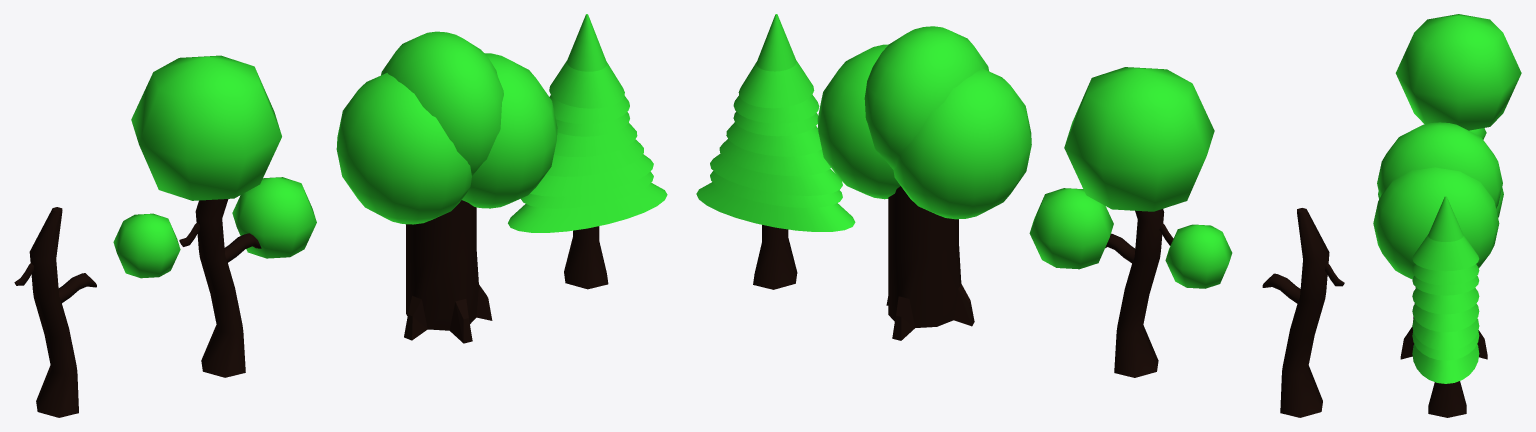
File: Trees.FBX
3 renders of one model, left to right at view 1: azimuth 30°, elevation 25°; view 2: azimuth 150°, elevation 25°; view 3: azimuth 270°, elevation 25°, orthographic. The views are drawn at different scales.
Parts seen in each view (by area): view 1: Sphere001, Sphere006, Sphere004, Cylinder007, Sphere005, Cylinder004, Cylinder001, Sphere002, Cone001, Sphere003, Cone007, Cone003 (+7 smaller); view 2: Sphere001, Sphere006, Sphere004, Cylinder007, Sphere005, Cylinder004, Sphere002, Cylinder001, Cone001, Sphere003, Cone003, Cone007 (+7 smaller); view 3: Sphere001, Sphere005, Sphere004, Cone007, Cone001, Cone005, Cone003, Cone004, Cylinder008, Cone008, Cone009, Cone006 (+2 smaller).
Part boxes in pixels (box(x1,y1,x2,y2)): Sphere001: box(131, 55, 281, 200); Sphere006: box(336, 73, 471, 224); Sphere004: box(381, 31, 503, 175); Cylinder007: box(404, 200, 492, 343); Sphere005: box(462, 53, 557, 208); Cylinder004: box(29, 207, 78, 417); Cylinder001: box(195, 199, 245, 377); Sphere002: box(232, 177, 316, 258); Cone001: box(508, 182, 667, 232); Sphere003: box(113, 213, 180, 278); Cone007: box(549, 60, 624, 108); Cone003: box(530, 154, 653, 196); Sphere001: box(1064, 67, 1214, 211); Sphere006: box(893, 68, 1031, 219); Sphere004: box(864, 26, 988, 169); Cylinder007: box(886, 186, 974, 340); Sphere005: box(817, 44, 900, 199); Cylinder004: box(1280, 208, 1329, 417); Sphere002: box(1029, 188, 1113, 269); Cylinder001: box(1114, 209, 1164, 377); Cone001: box(696, 182, 855, 231); Sphere003: box(1165, 224, 1232, 288); Cone003: box(710, 153, 842, 195); Cone007: box(738, 60, 814, 108); Sphere001: box(1395, 14, 1521, 130); Sphere005: box(1373, 167, 1499, 279); Sphere004: box(1377, 122, 1502, 208); Cone007: box(1412, 234, 1479, 271); Cone001: box(1412, 344, 1479, 383); Cone005: box(1412, 288, 1479, 314); Cone003: box(1412, 318, 1479, 350); Cone004: box(1412, 303, 1479, 332); Cylinder008: box(1428, 381, 1466, 417); Cone008: box(1428, 196, 1463, 241); Cone009: box(1412, 264, 1479, 285); Cone006: box(1412, 276, 1479, 295).
Size of the model in its own units: 57.22 by 26.44 by 14.06.
